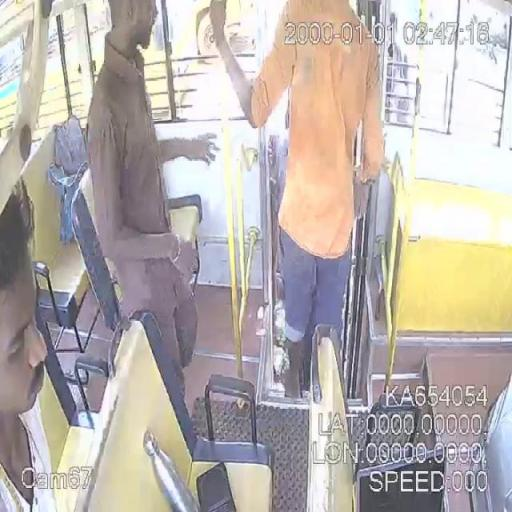persona: (208, 0, 386, 400), (84, 0, 220, 400), (0, 176, 58, 511)
